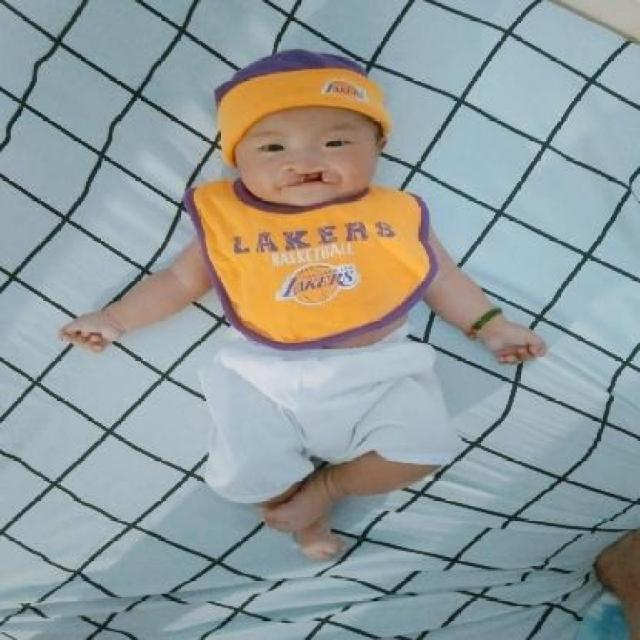baby: (56, 48, 546, 560)
